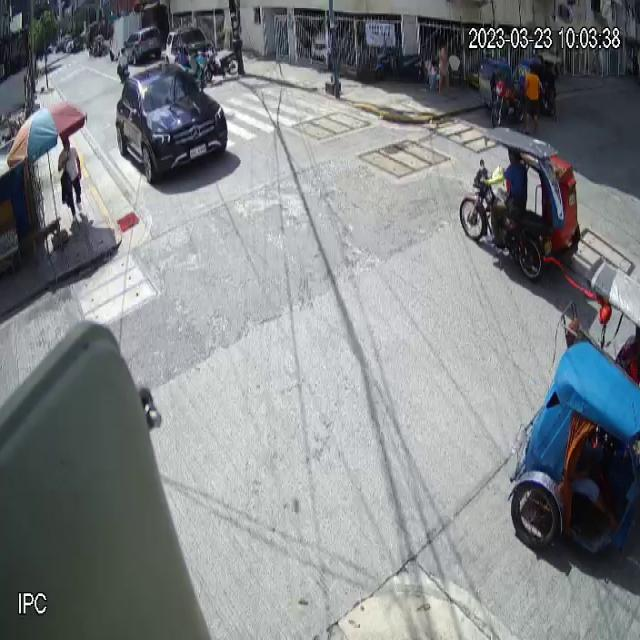Car: (114, 60, 228, 185)
Tricycle: (507, 257, 640, 565), (459, 125, 582, 281)
